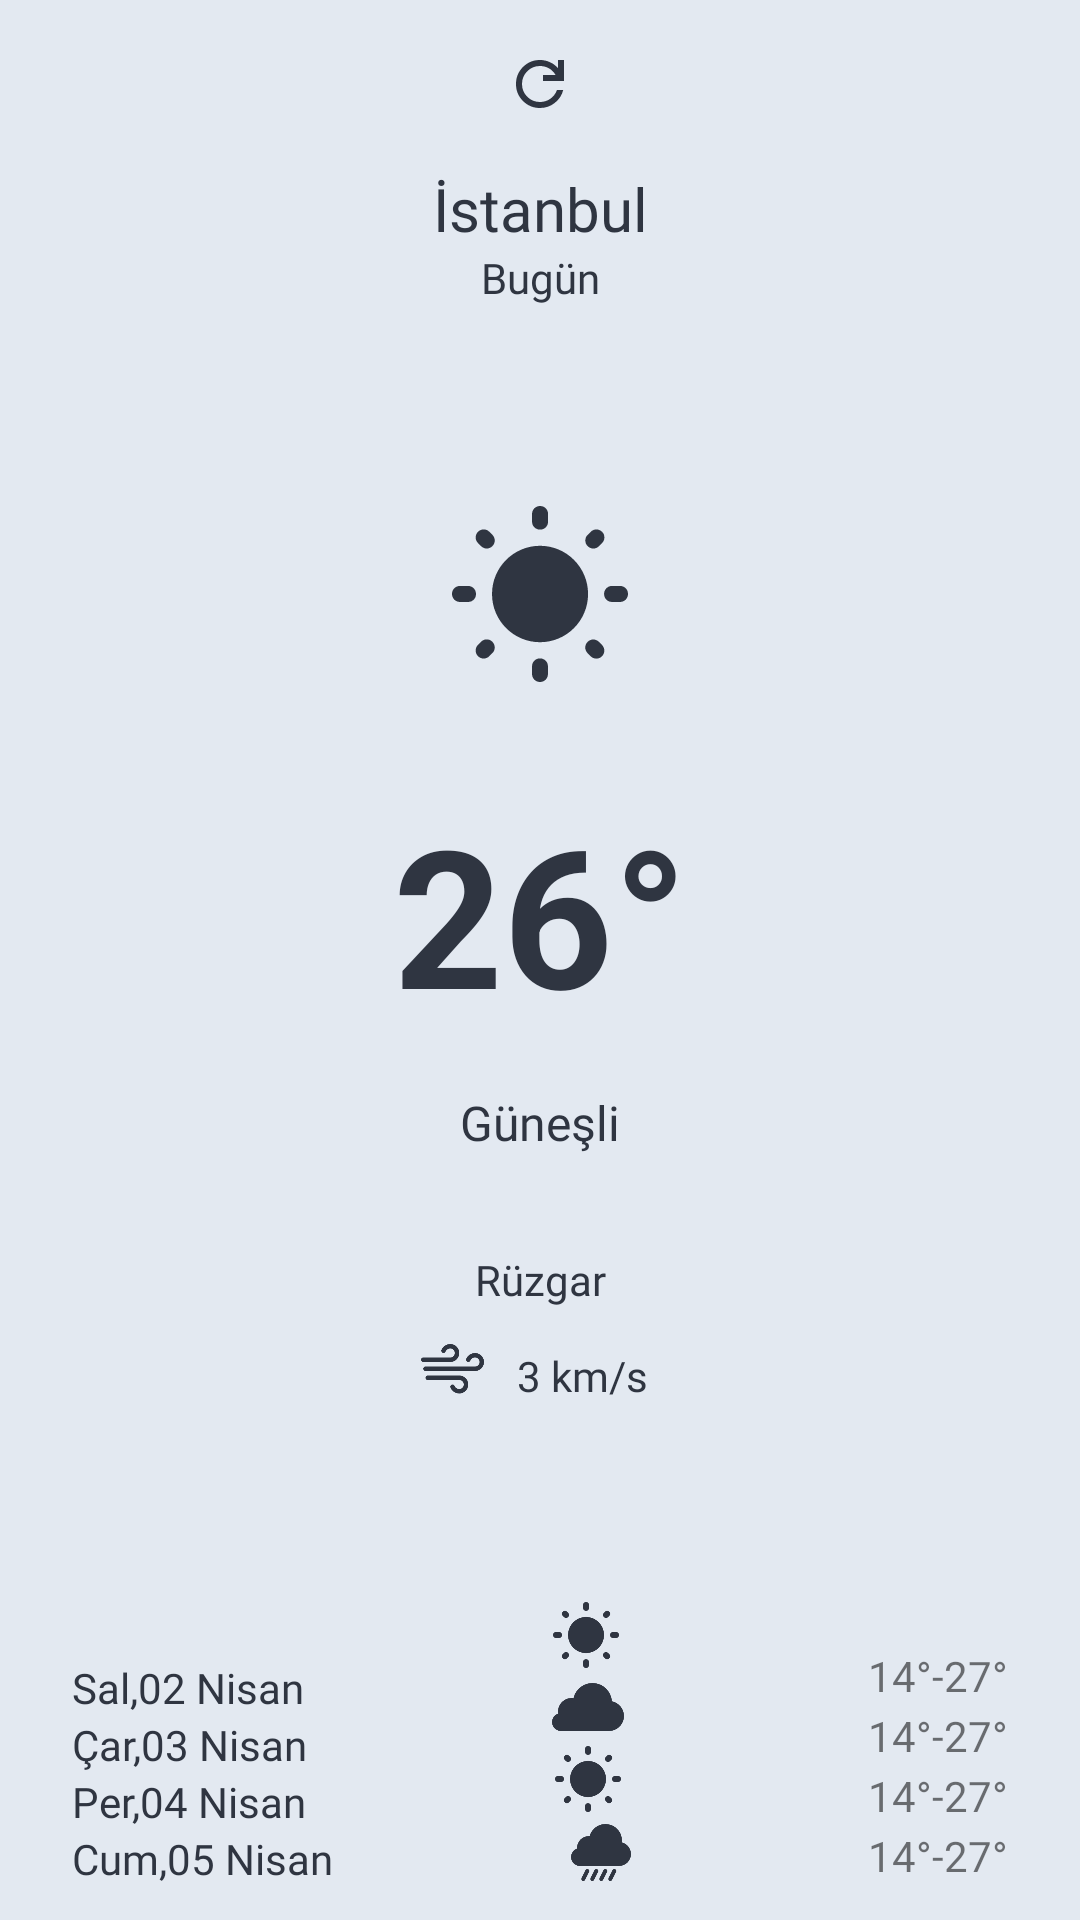

Where icons sit on this 1080px×1920px app screen, as (x1, y1, x2, y2):
cloudy: (552, 1683, 624, 1731)
rainy: (571, 1824, 631, 1881)
refresh: (516, 60, 564, 108)
sunny: (452, 506, 628, 682), (553, 1602, 619, 1668), (555, 1746, 621, 1812)
wind: (421, 1344, 484, 1394)
